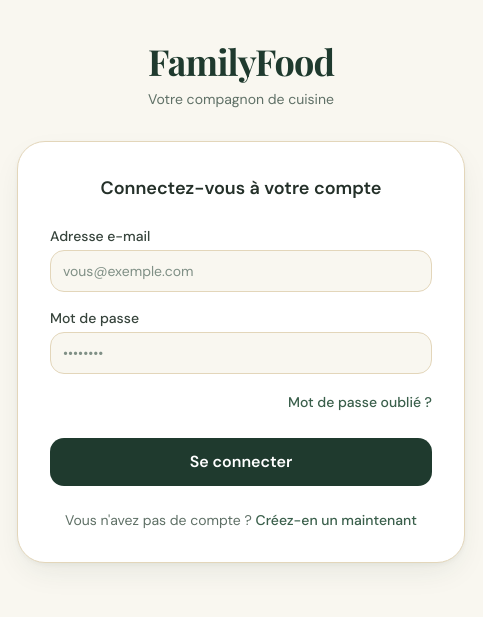
it: Auth System › Login Page › shows friendly error message when signIn fails
This screenshot has width=483, height=617.
Expected: the heading "Connectez-vous à votre compte" is shown, [100,176,381,200]
In the field labelled "Adresse e-mail": (241, 271) [50,250,432,292], type "test@example.com"
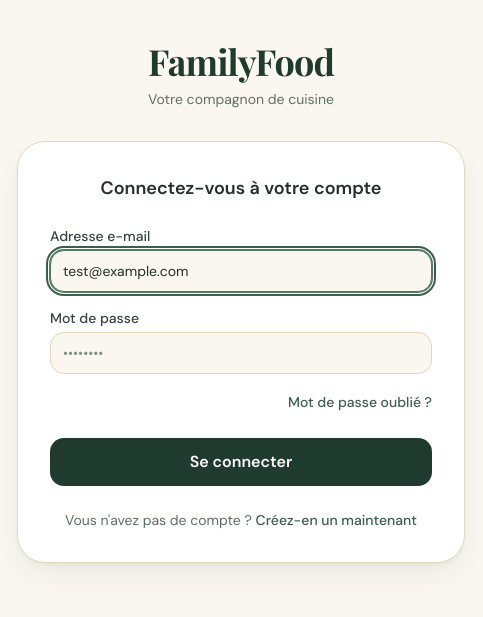
In the password field labelled "Mot de passe": (241, 353) [50,332,432,374], type "wrongpassword"
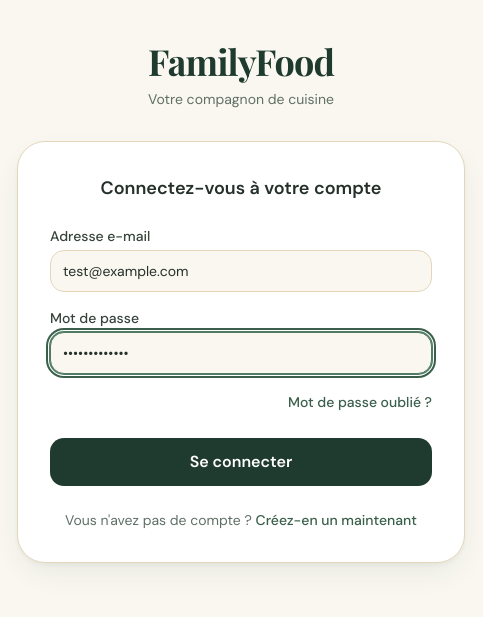
Click the button "Se connecter": (241, 462) [50,438,432,486]
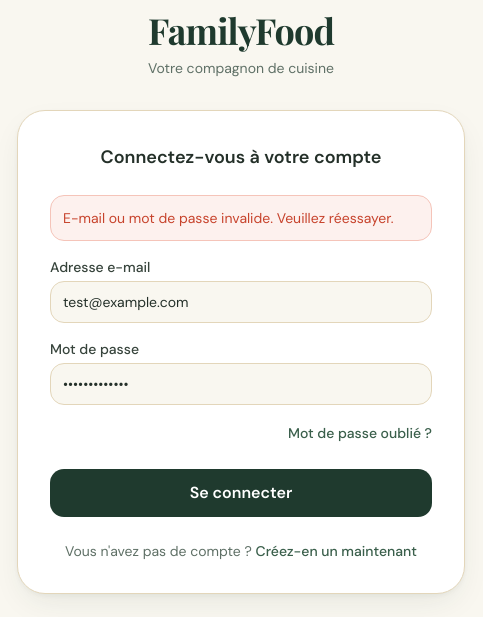
Expected: the message reads "E-mail ou mot de passe invalide. Veuillez réessayer.", [63,209,394,227]
